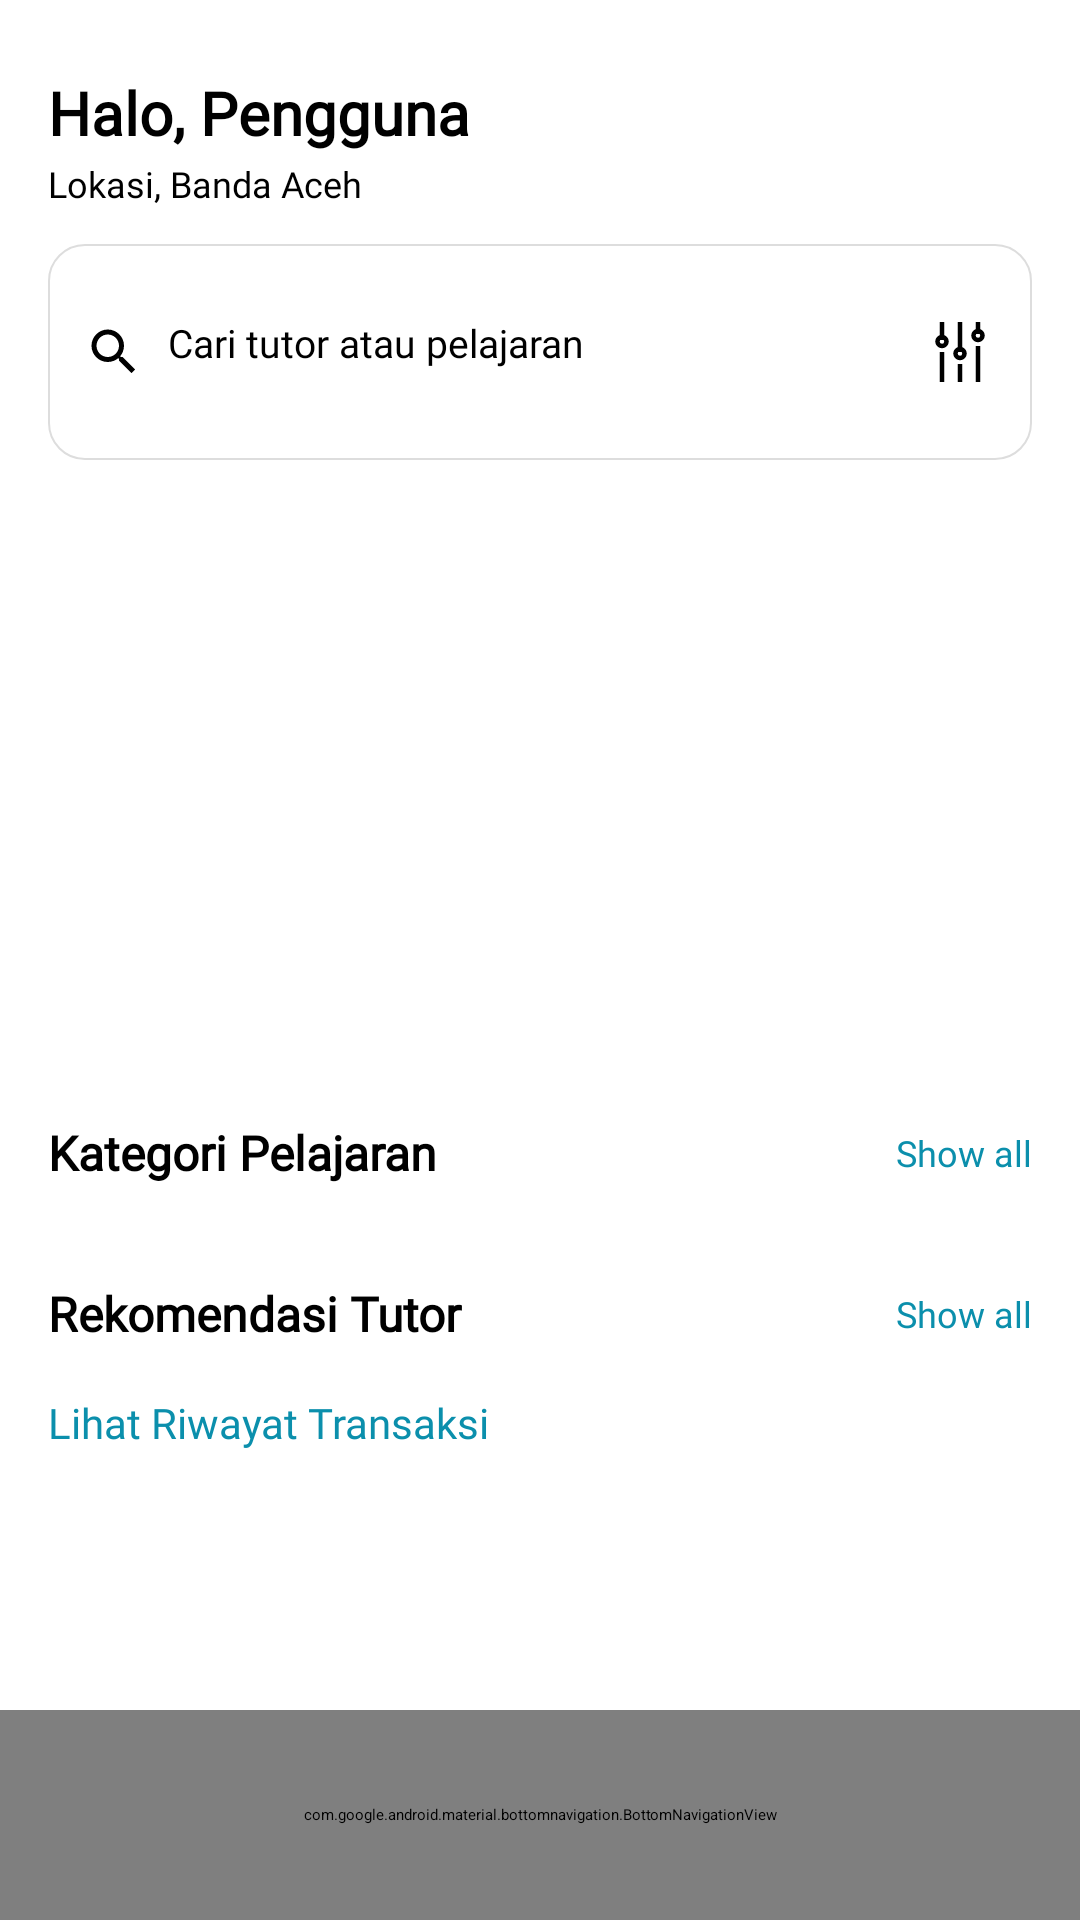

Where icons sit on this 1080x1920 app screen, as (x1, y1, x2, y2):
filter: (935, 322, 985, 382)
search: (91, 329, 135, 373)
